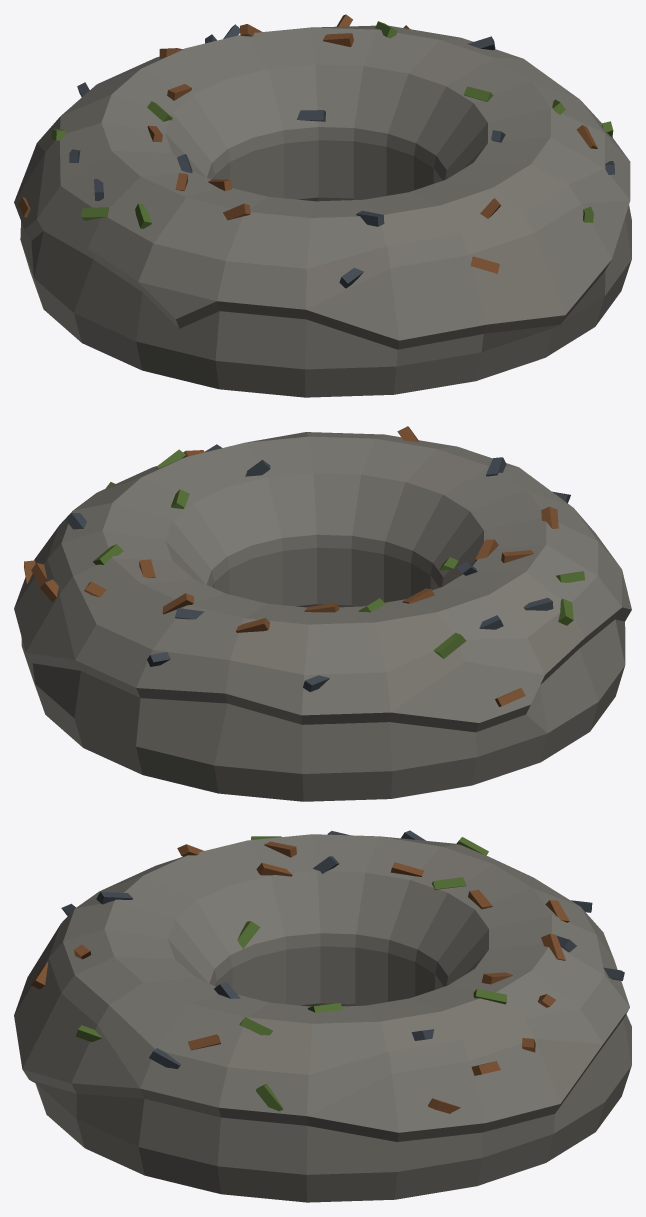
The model's file is cc0-donut-lod0.glb.
3 views of the same model, one above another, from view 1: azimuth 30°, elevation 25°; view 2: azimuth 150°, elevation 25°; view 3: azimuth 270°, elevation 25° (orthographic).
Parts seen in each view (by area): view 1: part_0; view 2: part_0; view 3: part_0.
Part boxes in pixels (x1=…): part_0: x1=14, y1=14, x2=631, y2=397; part_0: x1=14, y1=426, x2=631, y2=801; part_0: x1=14, y1=830, x2=631, y2=1202.
Size of the model in its own units: 0.8591 by 0.2914 by 0.8698.
